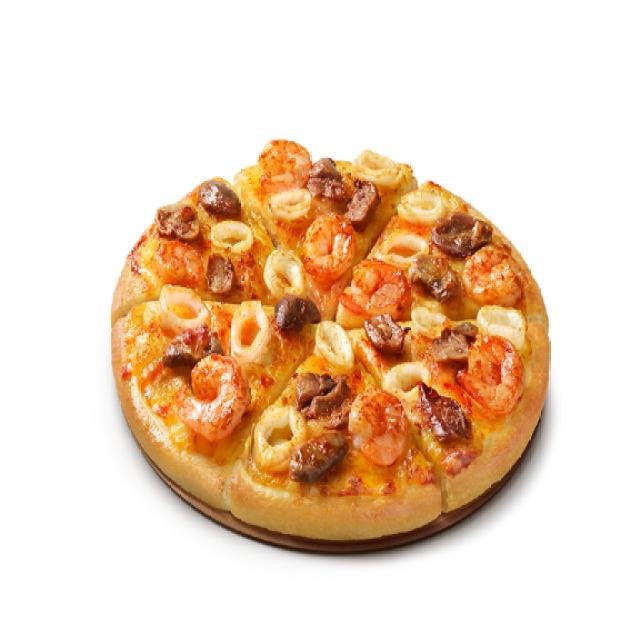Tom yum kung pizza: (124, 279, 408, 530)
